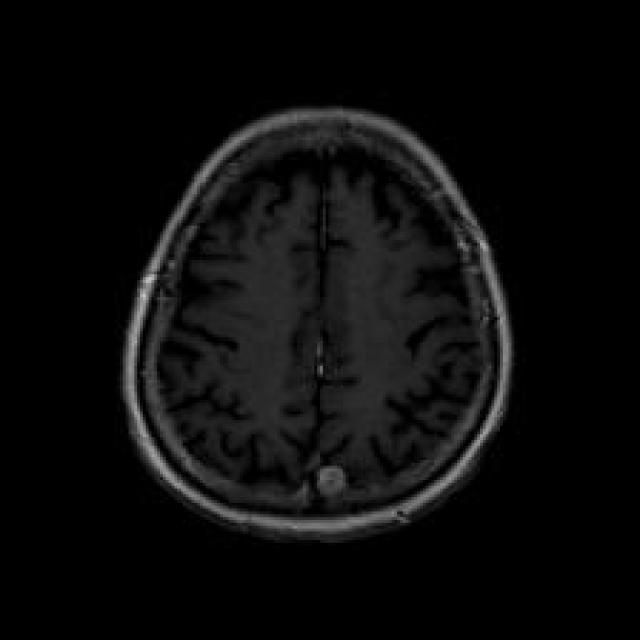meningioma_tumor: (308, 454, 362, 514)
